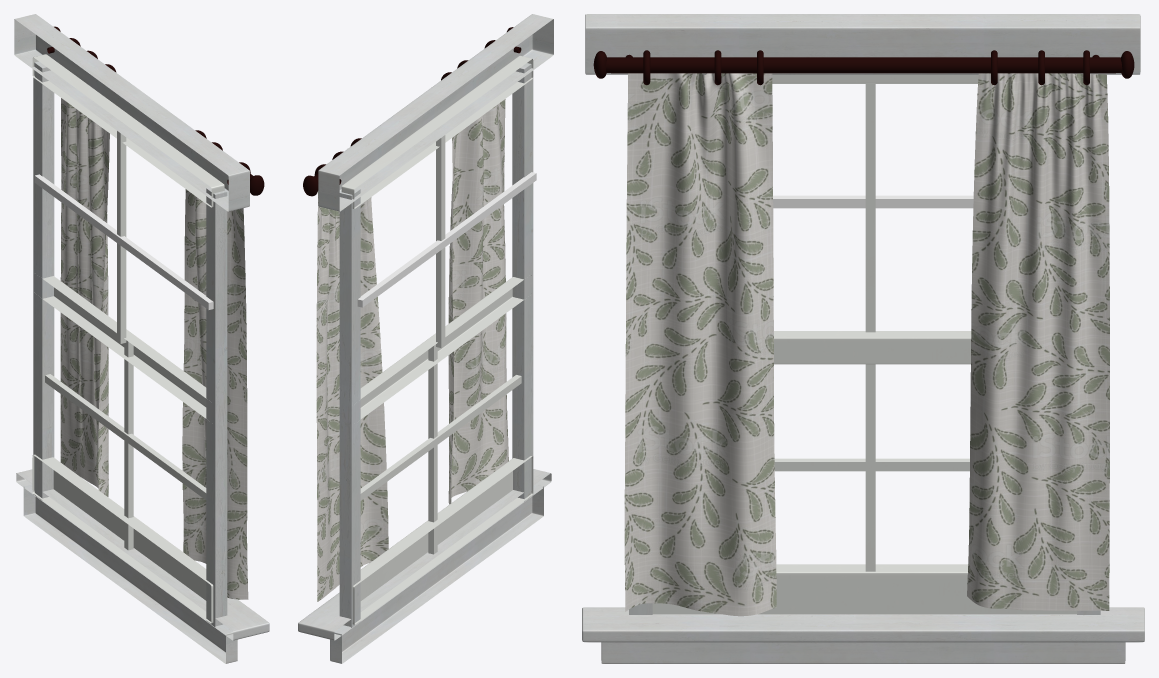
Rendered from window.glb.
The picture shows the model from 3 angles, left to right: view 1: azimuth 30°, elevation 25°; view 2: azimuth 150°, elevation 25°; view 3: azimuth 270°, elevation 25°; orthographic projection. The views are drawn at different scales.
Visible parts, largest first — view 1: Curtain_2, Curtain_1, Window_Frame1, Window_Frame8, Window_Frame9, Window_Frame4, Window_Frame11, Window_Frame, Window_Frame7, Window_Frame10, Window_Frame2, Window_Frame6 (+2 smaller); view 2: Curtain_2, Curtain_1, Window_Frame1, Window_Frame9, Window_Frame8, Window_Frame4, Window_Frame11, Window_Frame, Window_Frame7, Window_Frame10, Window_Frame2, Window_Frame6 (+2 smaller); view 3: Curtain_2, Curtain_1, Window_Frame1, Window_Frame10, Window_Frame11, Window_Frame4, Rod, Window_Frame, Window_Frame3, Window_Frame2, Window_Frame6, Window_Frame5 (+1 smaller).
Part boxes in pixels (x1,y1,x2,y2): Curtain_2: (182, 189, 248, 599); Curtain_1: (60, 98, 109, 496); Window_Frame1: (14, 14, 249, 211); Window_Frame8: (206, 187, 227, 627); Window_Frame9: (33, 61, 54, 500); Window_Frame4: (32, 454, 213, 623); Window_Frame11: (23, 484, 237, 663); Window_Frame: (34, 273, 206, 418); Window_Frame7: (32, 54, 224, 207); Window_Frame10: (16, 469, 269, 640); Window_Frame2: (34, 174, 213, 309); Window_Frame6: (45, 374, 206, 499); Curtain_2: (448, 99, 508, 504); Curtain_1: (316, 191, 388, 601); Window_Frame1: (318, 14, 553, 211); Window_Frame9: (339, 188, 360, 627); Window_Frame8: (512, 63, 533, 501); Window_Frame4: (352, 456, 533, 624); Window_Frame11: (330, 484, 543, 663); Window_Frame: (360, 275, 531, 419); Window_Frame7: (341, 55, 533, 208); Window_Frame10: (298, 469, 551, 640); Window_Frame2: (357, 172, 536, 307); Window_Frame6: (360, 375, 521, 500); Curtain_2: (624, 73, 776, 616); Curtain_1: (967, 73, 1109, 610); Window_Frame1: (585, 14, 1140, 74); Window_Frame10: (582, 607, 1144, 642); Window_Frame11: (601, 642, 1125, 663); Window_Frame4: (652, 564, 1076, 614); Rod: (606, 57, 1122, 73); Window_Frame: (774, 331, 971, 364); Window_Frame3: (865, 84, 875, 332); Window_Frame2: (773, 195, 973, 208); Window_Frame6: (774, 458, 969, 471); Window_Frame5: (865, 364, 875, 571).
Bounding box in the file's own units: 6.81 × 68.96 × 54.94.
Materials: 4 (4 with a texture image).
